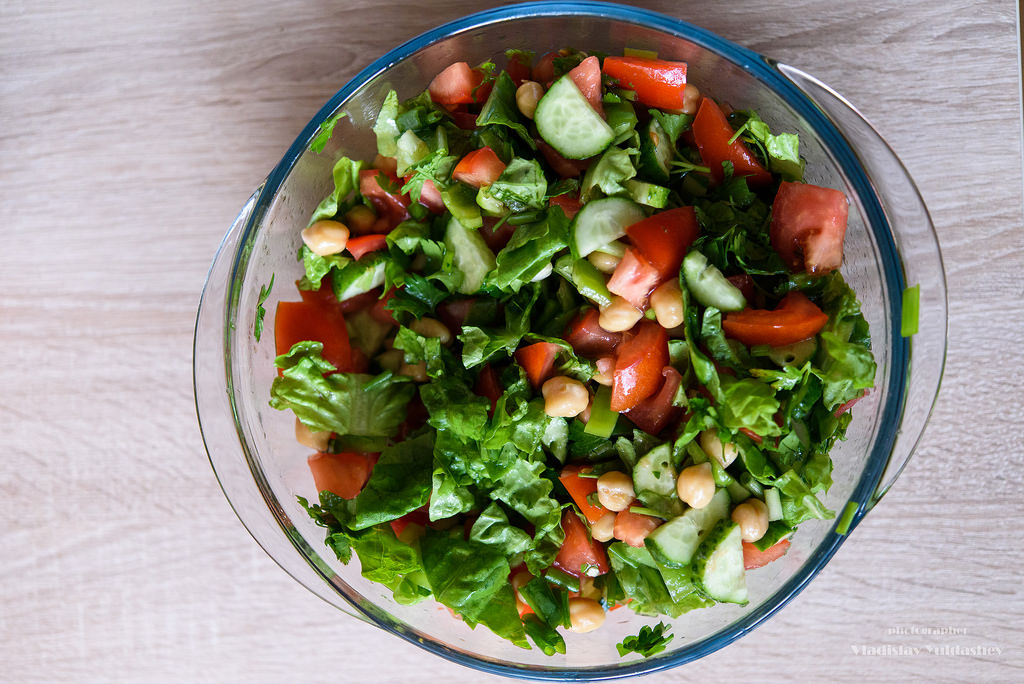chopped lettuce: (367, 349, 566, 620)
